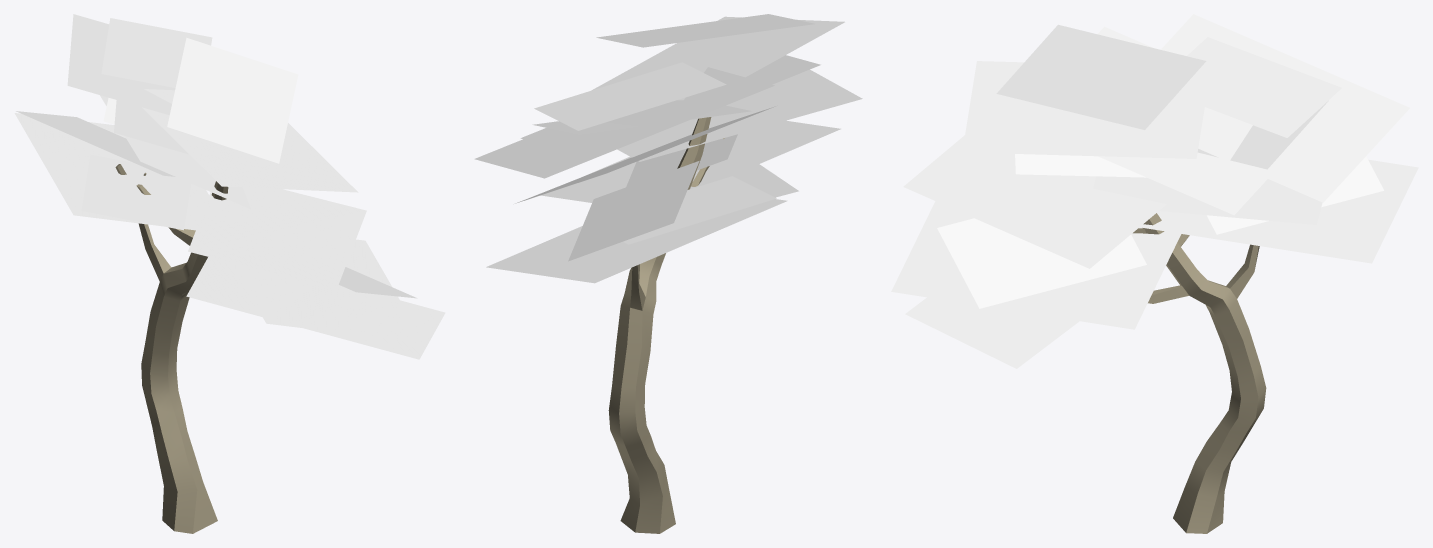
Rendered from tree02.fbx.
3 renders of one model, left to right at view 1: azimuth 30°, elevation 25°; view 2: azimuth 150°, elevation 25°; view 3: azimuth 270°, elevation 25°, orthographic. The views are drawn at different scales.
Visible parts, largest first — view 1: leaves02, trunk02; view 2: leaves02, trunk02; view 3: leaves02, trunk02.
Part boxes in pixels (x1=…): leaves02: x1=14, y1=14, x2=445, y2=359; trunk02: x1=115, y1=164, x2=228, y2=533; leaves02: x1=474, y1=14, x2=862, y2=283; trunk02: x1=608, y1=117, x2=724, y2=533; leaves02: x1=891, y1=14, x2=1418, y2=368; trunk02: x1=1133, y1=213, x2=1266, y2=533.
Bounding box in the file's own units: 5.53 × 8.77 × 9.07.
